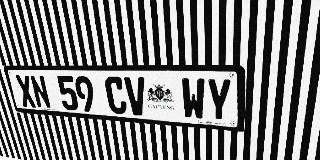5: (56, 76, 80, 111)
9: (73, 76, 97, 112)
C: (104, 76, 128, 115)
N: (29, 75, 52, 109)
V: (124, 77, 148, 116)
W: (181, 78, 206, 120)
X: (14, 75, 37, 108)
Y: (206, 78, 232, 122)
